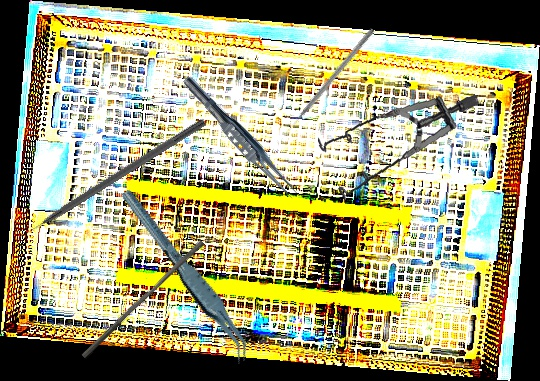Hook Surgical: (14, 116, 207, 242), (282, 27, 376, 136)
Pusher: (80, 235, 206, 364)
Speculum: (311, 77, 480, 215)
Tissue Forceps: (119, 176, 255, 374), (176, 72, 305, 204)
